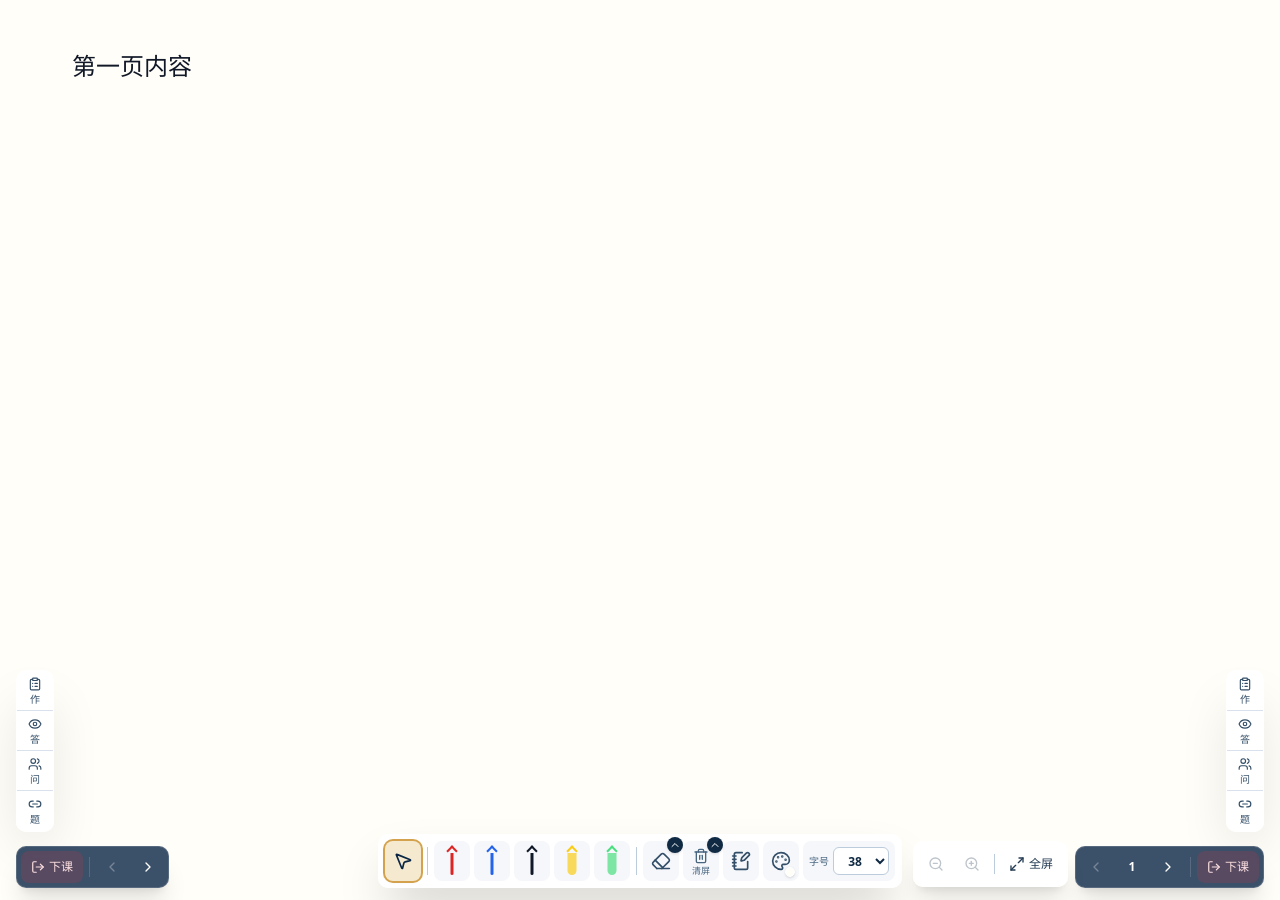
Test: PresentationMode › shows followed student markers in the first-page homework panel only when enabled
Click the button named "左侧作业记录" at (35, 691), box [17,671,53,711]
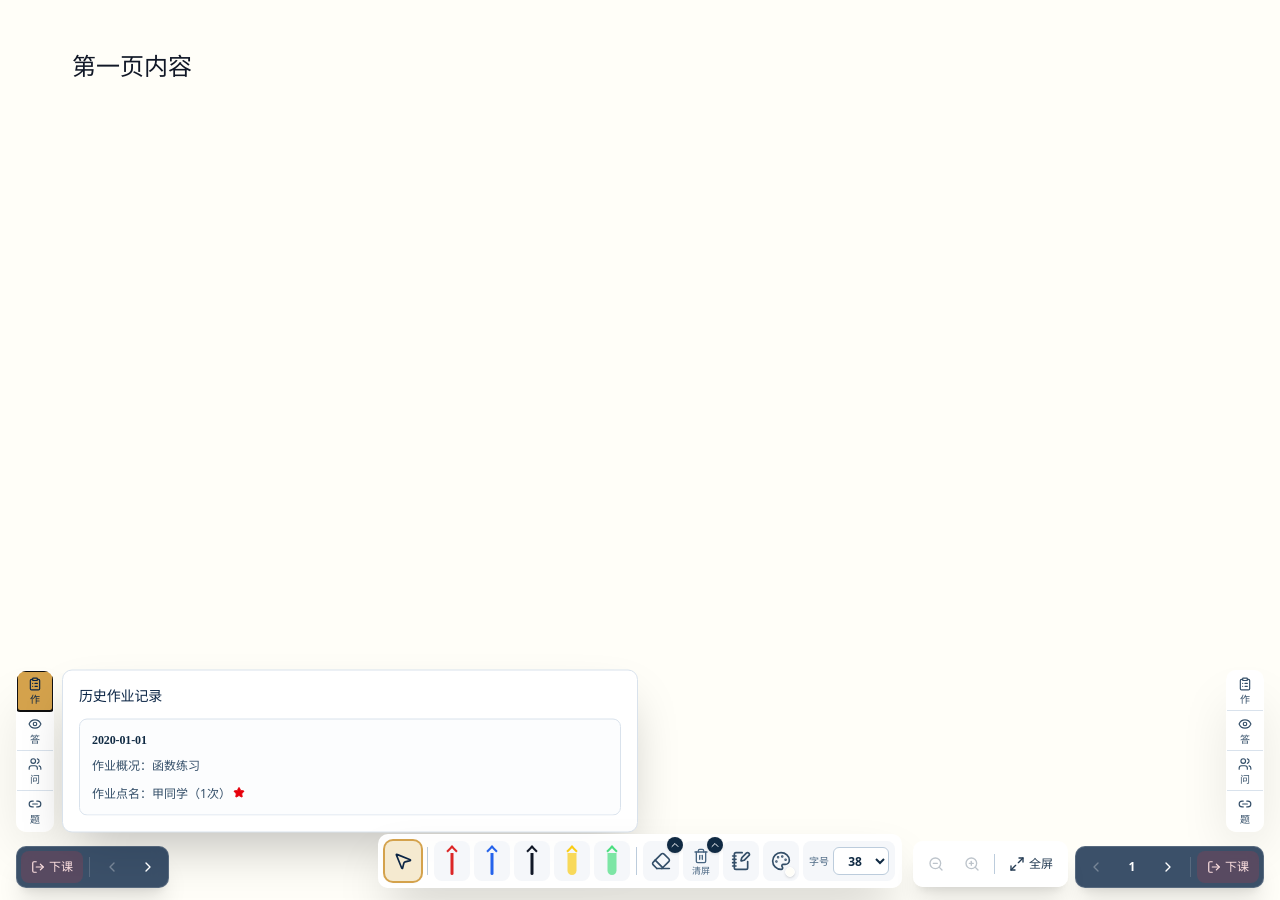
Result: the picture named "甲同学已关注" is shown at [233,787,245,799]
